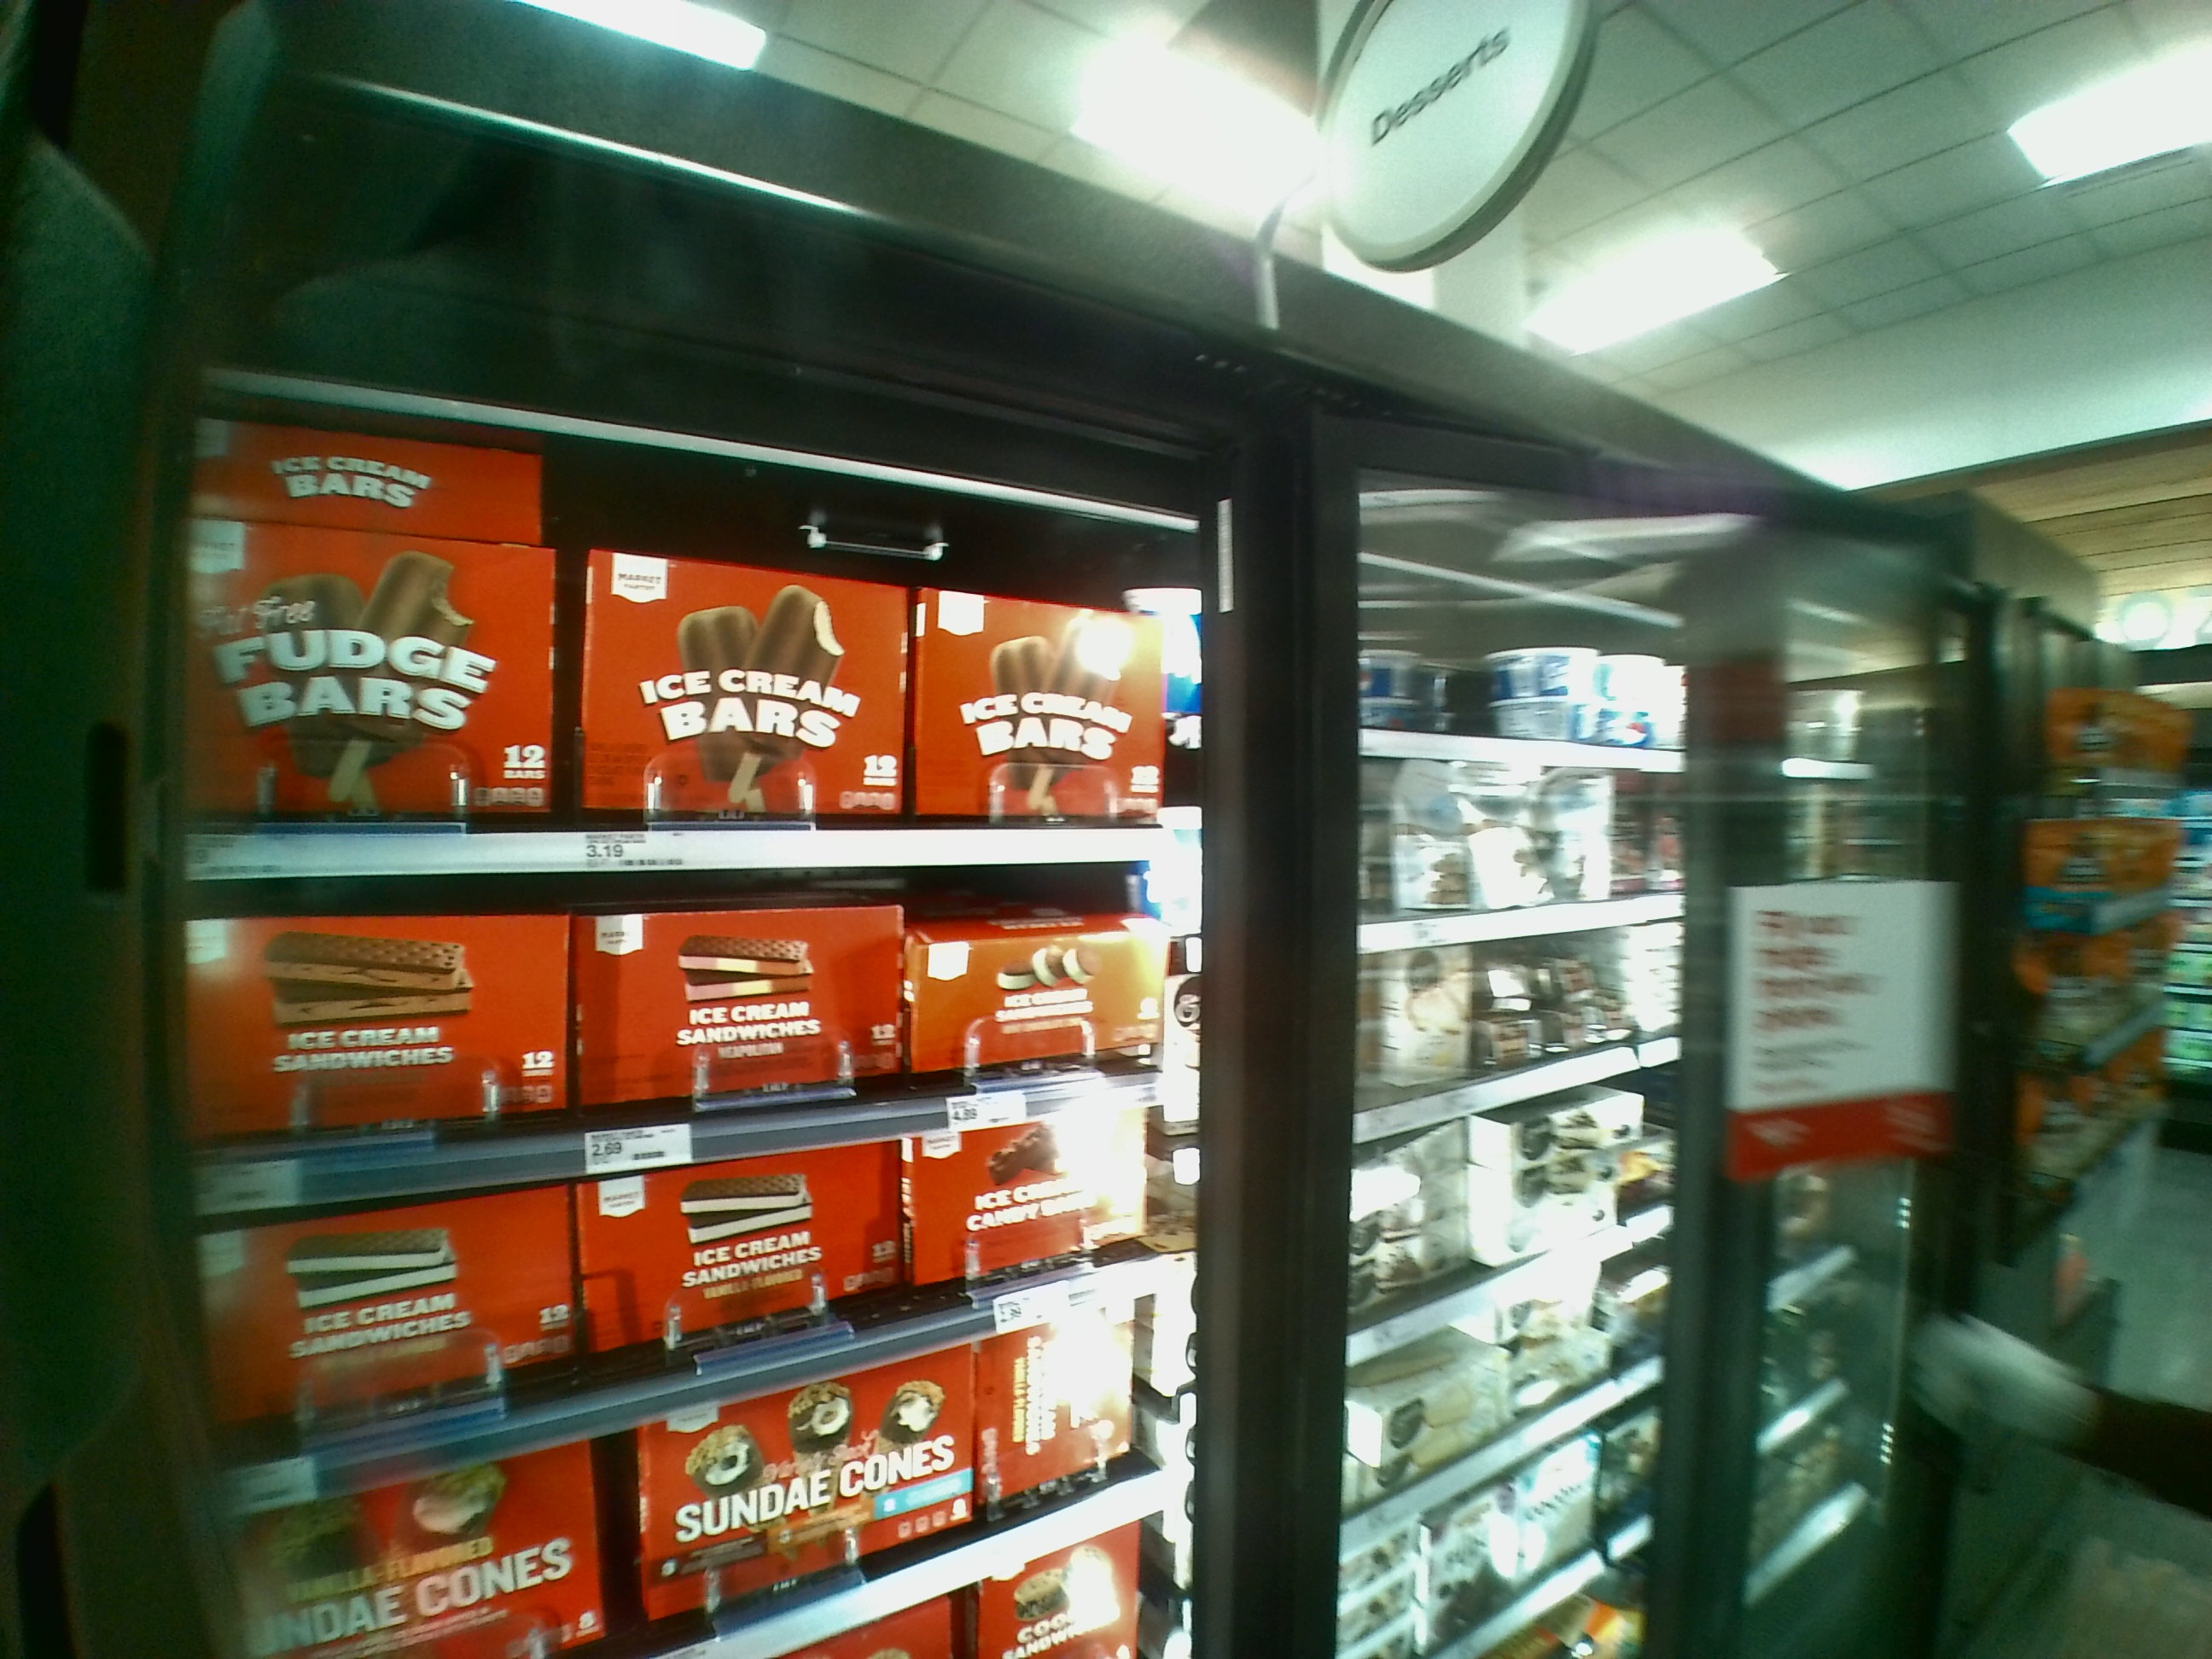shelf: (186, 410, 1177, 863), (183, 884, 1186, 1150), (204, 1136, 1181, 1368)
